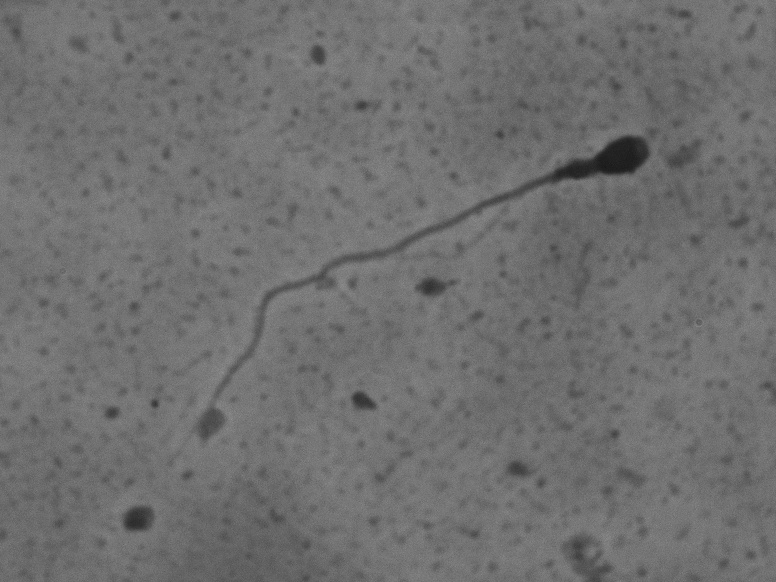Abnormal: (167, 101, 681, 447)
